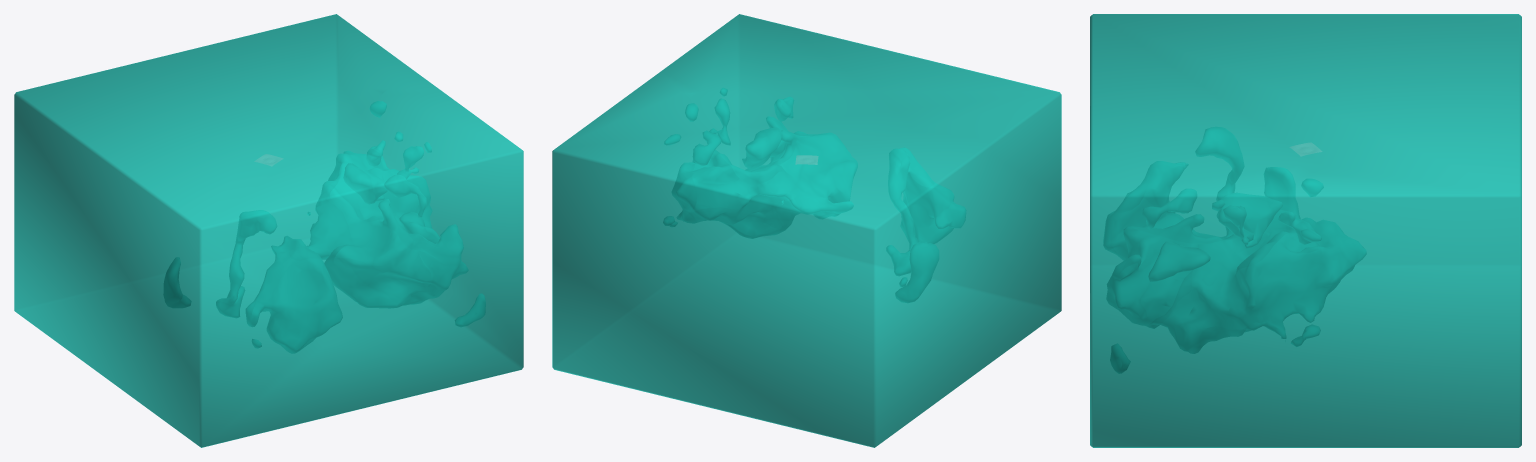
3 renders of one model, left to right at view 1: azimuth 30°, elevation 25°; view 2: azimuth 150°, elevation 25°; view 3: azimuth 270°, elevation 25°, orthographic. The views are drawn at different scales.
Parts seen in each view (by area): view 1: Liquid_Domain; view 2: Liquid_Domain; view 3: Liquid_Domain.
Boxes of the visible parts, x1,y1,x2,y2 form: Liquid_Domain: (14, 14, 523, 447); Liquid_Domain: (552, 14, 1061, 447); Liquid_Domain: (1090, 14, 1521, 447).
Bounding box in the file's own units: 391 × 254 × 391.
